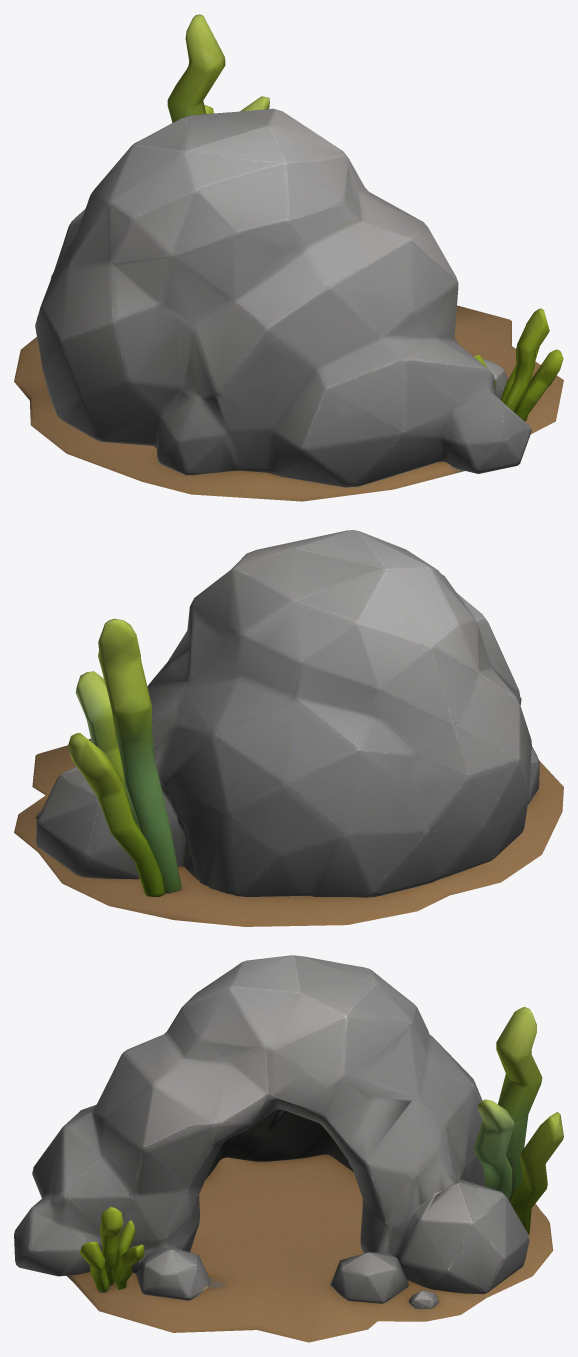
Rendered from cave_home_clean.glb.
3 views of the same model, one above another, from view 1: azimuth 30°, elevation 25°; view 2: azimuth 150°, elevation 25°; view 3: azimuth 270°, elevation 25° (orthographic). The views are drawn at different scales.
Parts seen in each view (by area): view 1: tripo_node_56ea02a4-d417-451a-afa5-057d6374d268; view 2: tripo_node_56ea02a4-d417-451a-afa5-057d6374d268; view 3: tripo_node_56ea02a4-d417-451a-afa5-057d6374d268.
Part boxes in pixels (left/top/right/bottom): tripo_node_56ea02a4-d417-451a-afa5-057d6374d268: left=14, top=14, right=563, bottom=501; tripo_node_56ea02a4-d417-451a-afa5-057d6374d268: left=14, top=530, right=563, bottom=926; tripo_node_56ea02a4-d417-451a-afa5-057d6374d268: left=14, top=955, right=563, bottom=1342.
Size of the model in its own units: 1 by 0.55 by 1.1.
1 material, 1 textured.
